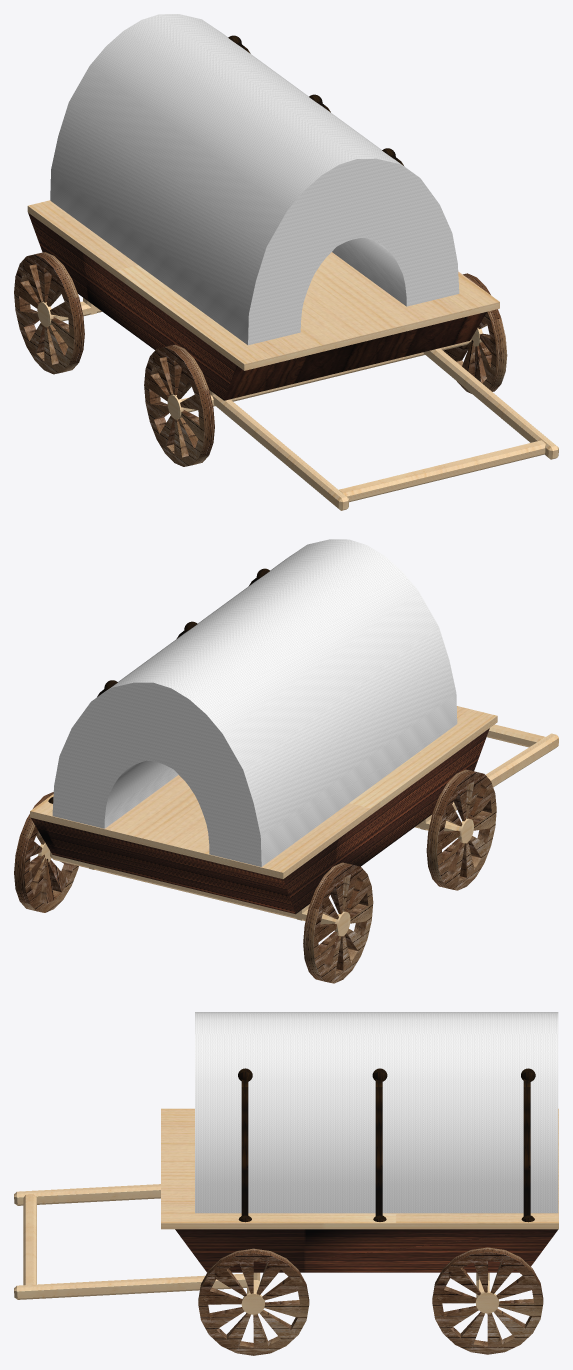
The model's file is caravan.fbx.
3 renders of one model, top to bottom at view 1: azimuth 30°, elevation 25°; view 2: azimuth 150°, elevation 25°; view 3: azimuth 270°, elevation 25°, orthographic. The views are drawn at different scales.
Parts seen in each view (by area): view 1: pPlane1, pCube1, pCube2, pPipe1 (×2), pPipe2, pCube11, pCube10, pCube9, pCube3; view 2: pPlane1, pCube2, pCube1, pPipe1 (×2), pPipe2, pCube4, pCube10, pCube11; view 3: pPlane1, pPipe1 (×2), pCube2, pCube1, pCube9, pCube10, pCube11, pPlane4, pPlane3, pPlane2, pCylinder1.
Boxes of the visible parts, x1,y1,x2,y2 form: pPlane1: (50, 14, 459, 345); pCube1: (27, 200, 499, 370); pCube2: (28, 213, 486, 400); pPipe1 (×2): (14, 252, 507, 393); pPipe2: (144, 344, 214, 466); pCube11: (339, 440, 545, 502); pCube10: (210, 394, 349, 510); pCube9: (423, 348, 558, 459); pCube3: (181, 339, 471, 412); pPlane1: (52, 539, 457, 866); pCube2: (31, 728, 489, 914); pCube1: (30, 706, 497, 878); pPipe1 (×2): (14, 792, 373, 983); pPipe2: (426, 769, 496, 890); pCube4: (50, 851, 338, 924); pCube10: (452, 733, 558, 810); pCube11: (486, 724, 544, 747); pPlane1: (195, 1012, 558, 1213); pPipe1 (×2): (198, 1247, 543, 1355); pCube2: (175, 1229, 558, 1272); pCube1: (161, 1108, 558, 1229); pCube9: (14, 1273, 246, 1299); pCube10: (14, 1184, 160, 1205); pCube11: (23, 1194, 36, 1285); pPlane4: (523, 1079, 530, 1216); pPlane3: (375, 1079, 382, 1216); pPlane2: (241, 1079, 248, 1216); pCylinder1: (475, 1291, 499, 1313).
Size of the model in its own units: 4.4 by 3.99 by 7.39.
Materials: 5 (5 with a texture image).
